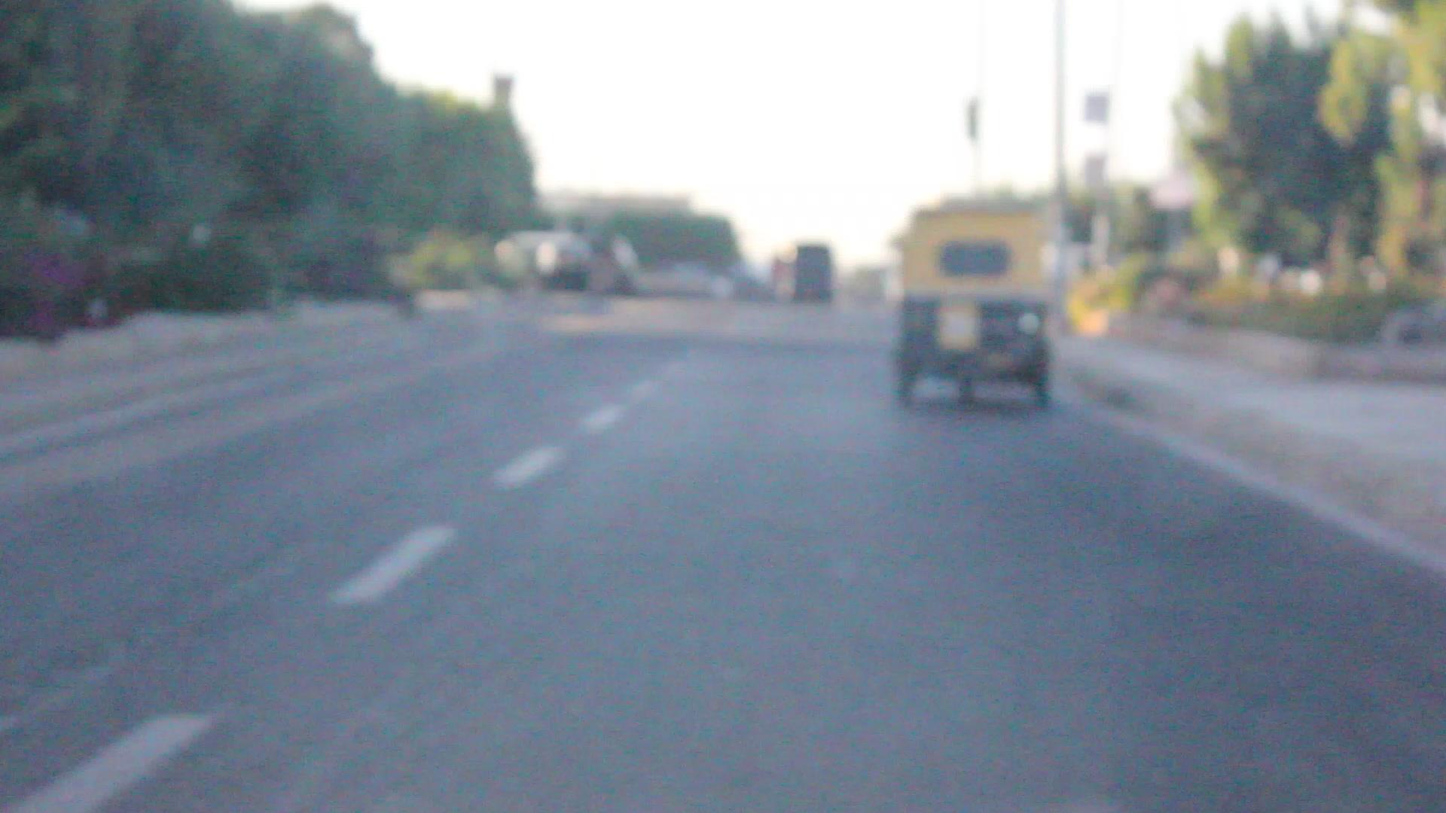Bump: (411, 320, 901, 363)
